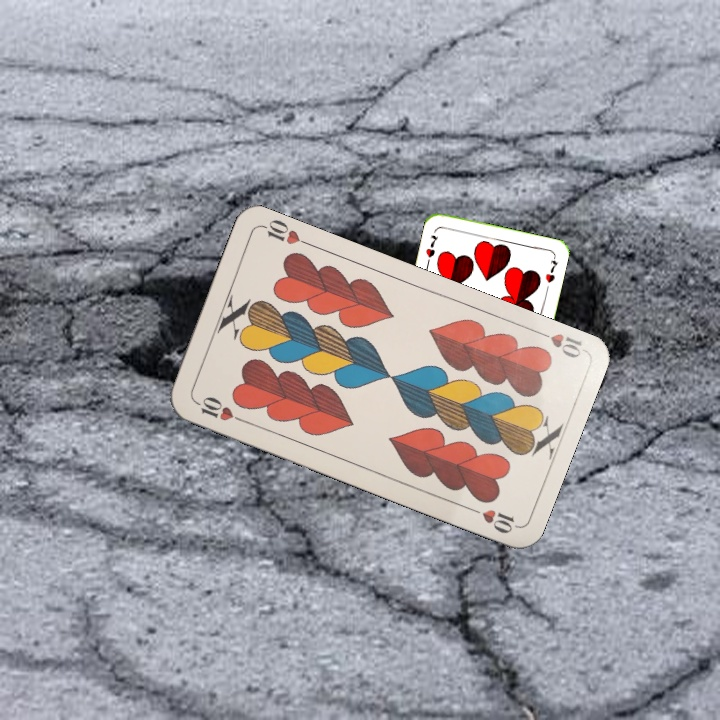H10: (530, 325, 585, 361), (191, 392, 248, 426)
H7: (422, 231, 441, 260)
